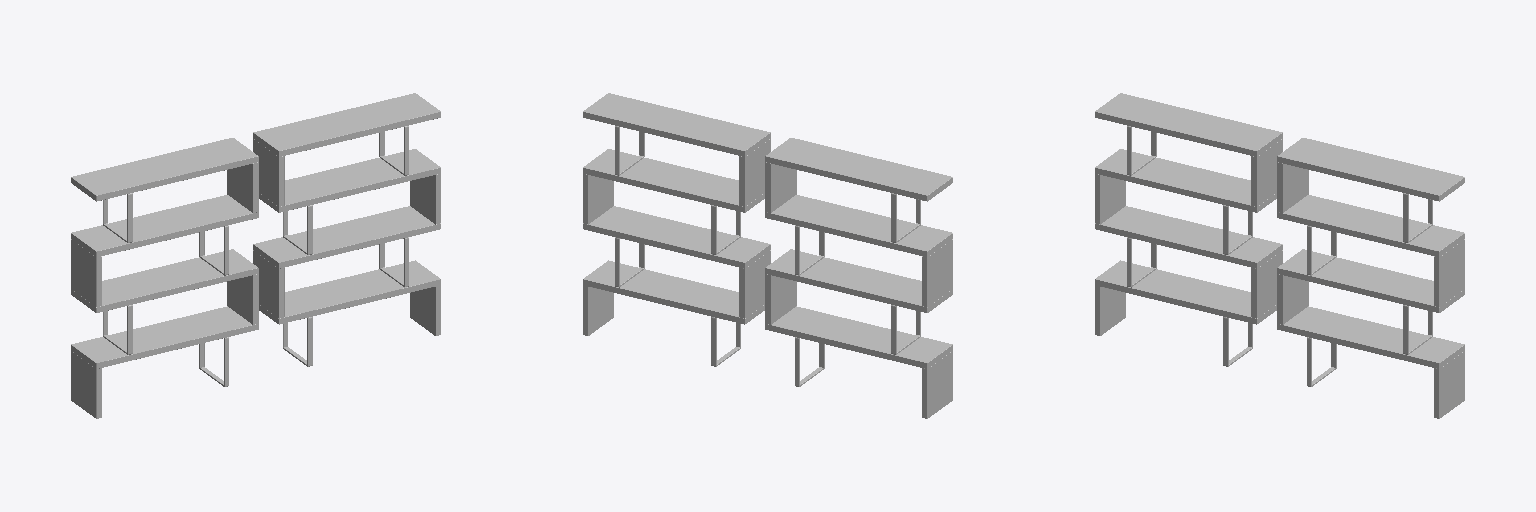
The model's file is book_case.obj.
3 views of the same model, side by side, from view 1: azimuth 30°, elevation 25°; view 2: azimuth 150°, elevation 25°; view 3: azimuth 330°, elevation 25° (orthographic).
Visible parts, largest first — view 1: 2, 03, 1, 04; view 2: 2, 03, 1, 04; view 3: 03, 2, 04, 1.
Part boxes in pixels (left/top/right/bottom): 2: left=71, top=138, right=258, bottom=418; 03: left=253, top=93, right=440, bottom=335; 1: left=103, top=193, right=228, bottom=386; 04: left=283, top=126, right=408, bottom=366; 2: left=765, top=138, right=952, bottom=418; 03: left=583, top=93, right=770, bottom=335; 1: left=795, top=193, right=920, bottom=386; 04: left=615, top=126, right=740, bottom=366; 03: left=1277, top=138, right=1464, bottom=418; 2: left=1095, top=93, right=1282, bottom=335; 04: left=1307, top=193, right=1432, bottom=386; 1: left=1127, top=126, right=1252, bottom=366.
Bounding box in the file's own units: 108 × 67 × 14.